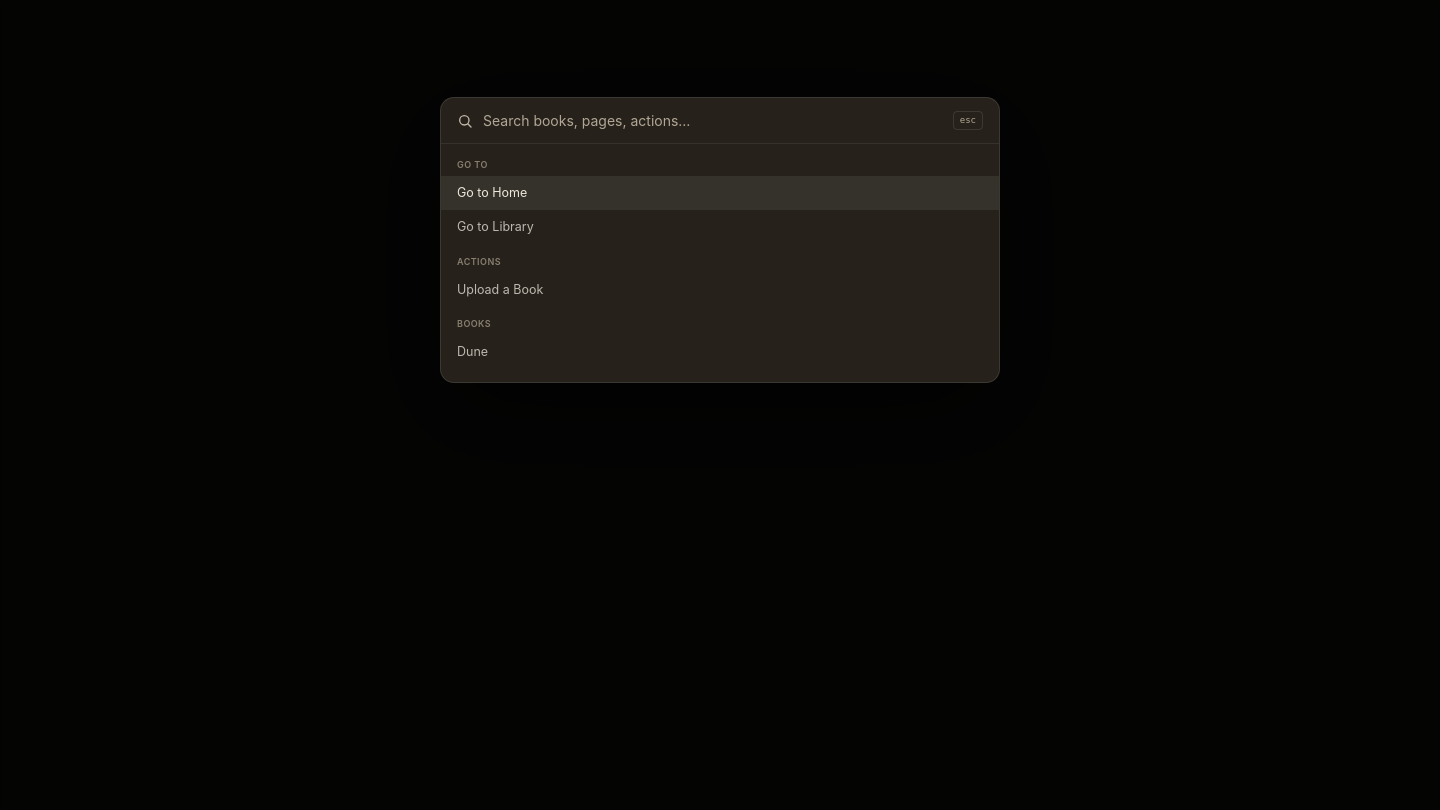
it: CommandPalette › shows an empty state when nothing matches
Type "zzzz" into the dropdown at (713, 121), box [483,110,943,131]
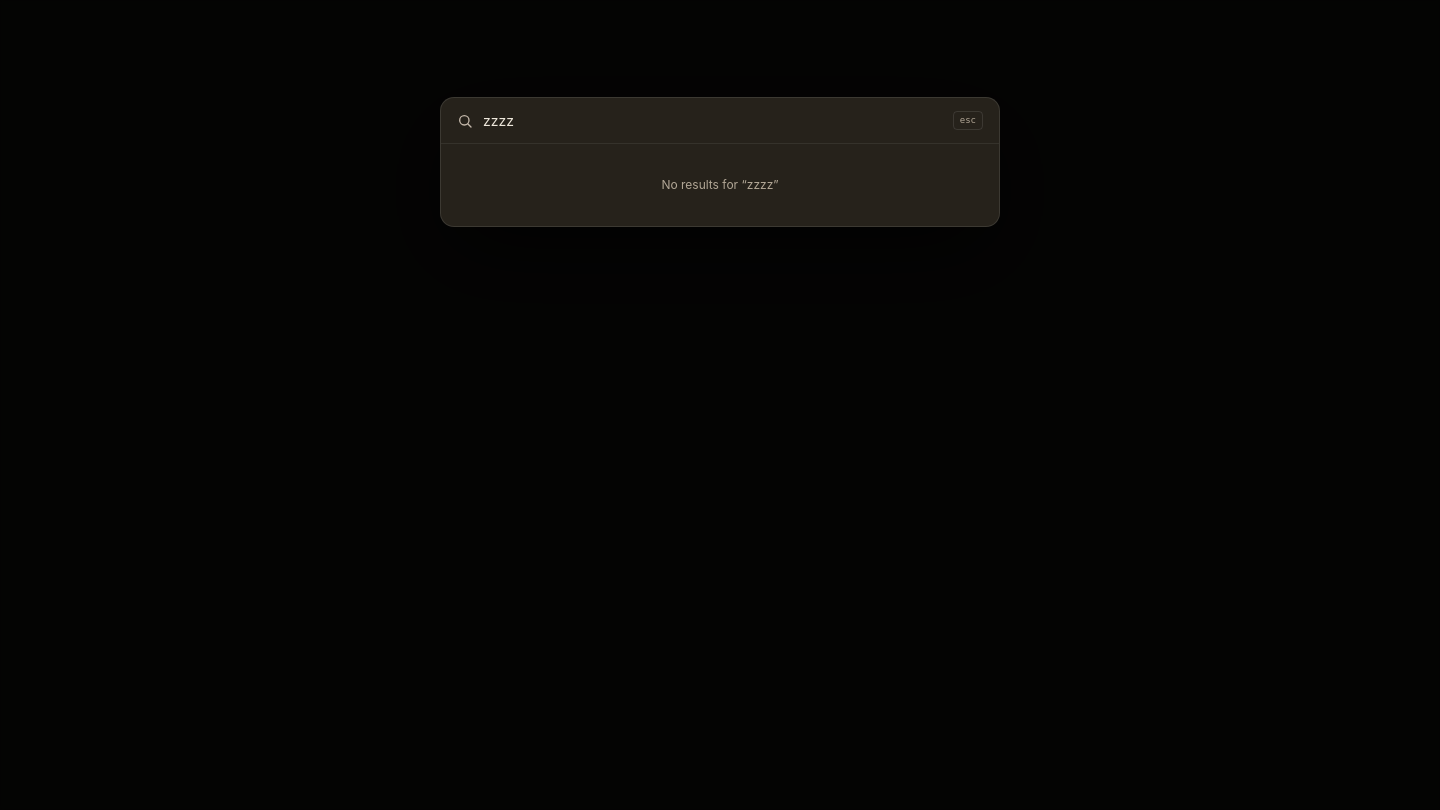
Now the text "No results for “zzzz”" is shown, box [661,177,779,192]
